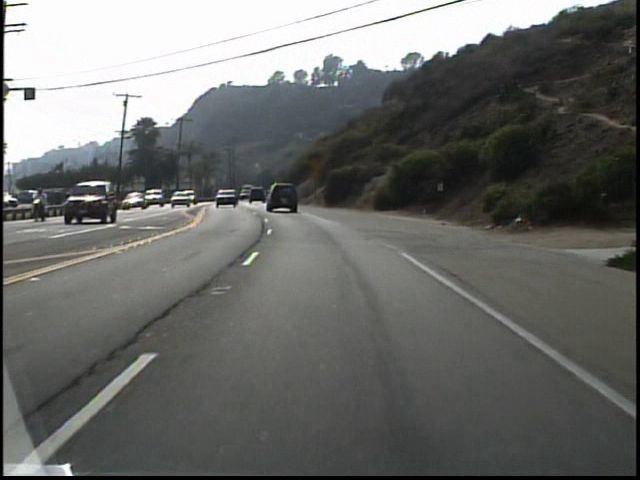person: (38, 189, 55, 223)
